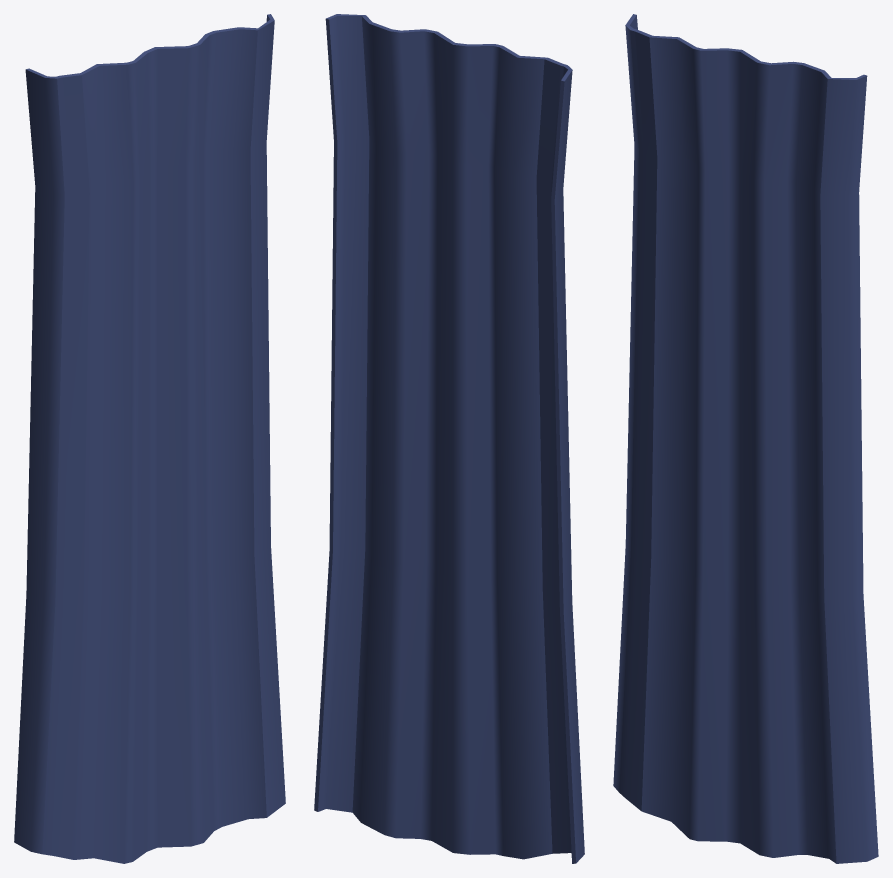
Rendered from curtain.fbx.
3 renders of one model, left to right at view 1: azimuth 30°, elevation 25°; view 2: azimuth 150°, elevation 25°; view 3: azimuth 330°, elevation 25°, orthographic. The views are drawn at different scales.
Parts seen in each view (by area): view 1: curtain; view 2: curtain; view 3: curtain.
Part boxes in pixels (x1,y1,x2,y2): curtain: (14, 14, 285, 863); curtain: (314, 14, 584, 863); curtain: (613, 14, 878, 863).
Bounding box in the file's own units: 1.1 × 3.19 × 0.1512.
